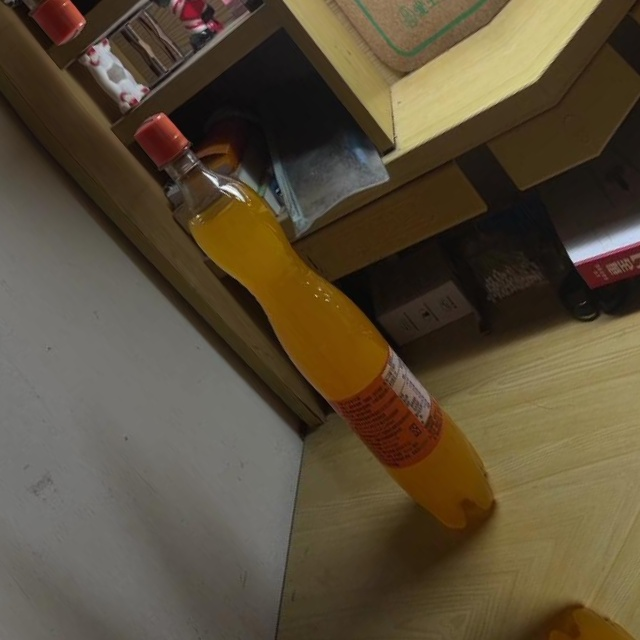Fanta: (110, 91, 512, 546)
